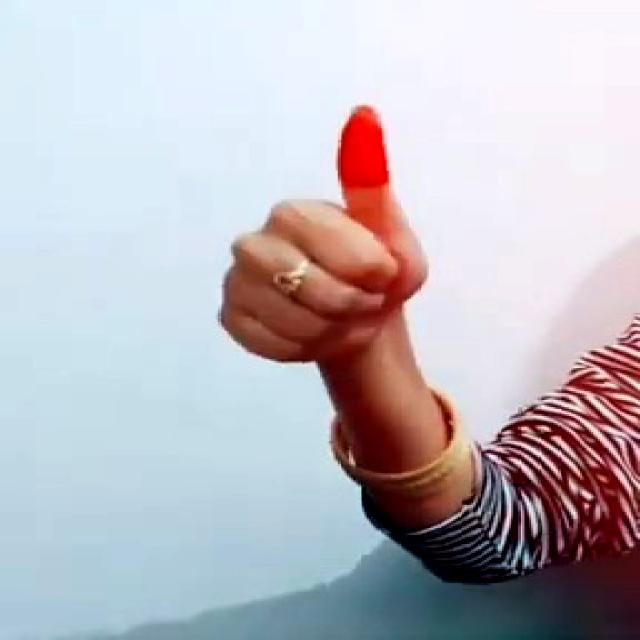Shikhara: (202, 93, 472, 374)
bangle: (311, 390, 493, 504)
